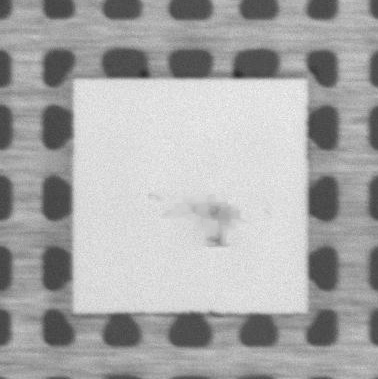DIE_INK: (194, 198, 241, 247)
